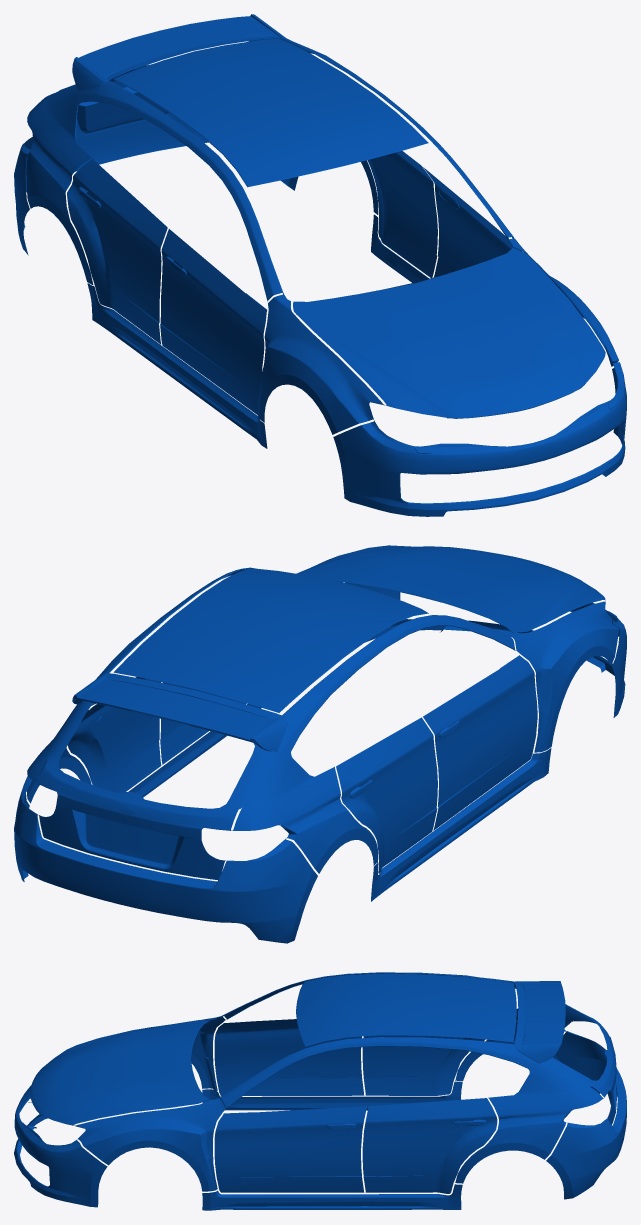
The model's file is colliderShell.fbx.
3 renders of one model, top to bottom at view 1: azimuth 30°, elevation 25°; view 2: azimuth 150°, elevation 25°; view 3: azimuth 270°, elevation 25°, orthographic. The views are drawn at different scales.
Visible parts, largest first — view 1: BodyMain; view 2: BodyMain; view 3: BodyMain.
Part boxes in pixels (x1,y1,x2,y2): BodyMain: [14, 14, 626, 516]; BodyMain: [14, 545, 626, 943]; BodyMain: [14, 972, 626, 1210].
Size of the model in its own units: 178 by 126 by 440.
